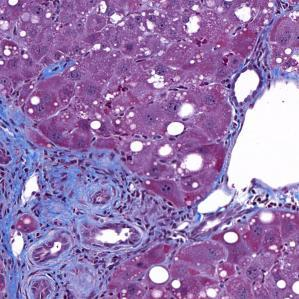fibrosis: (6, 137, 134, 294)
